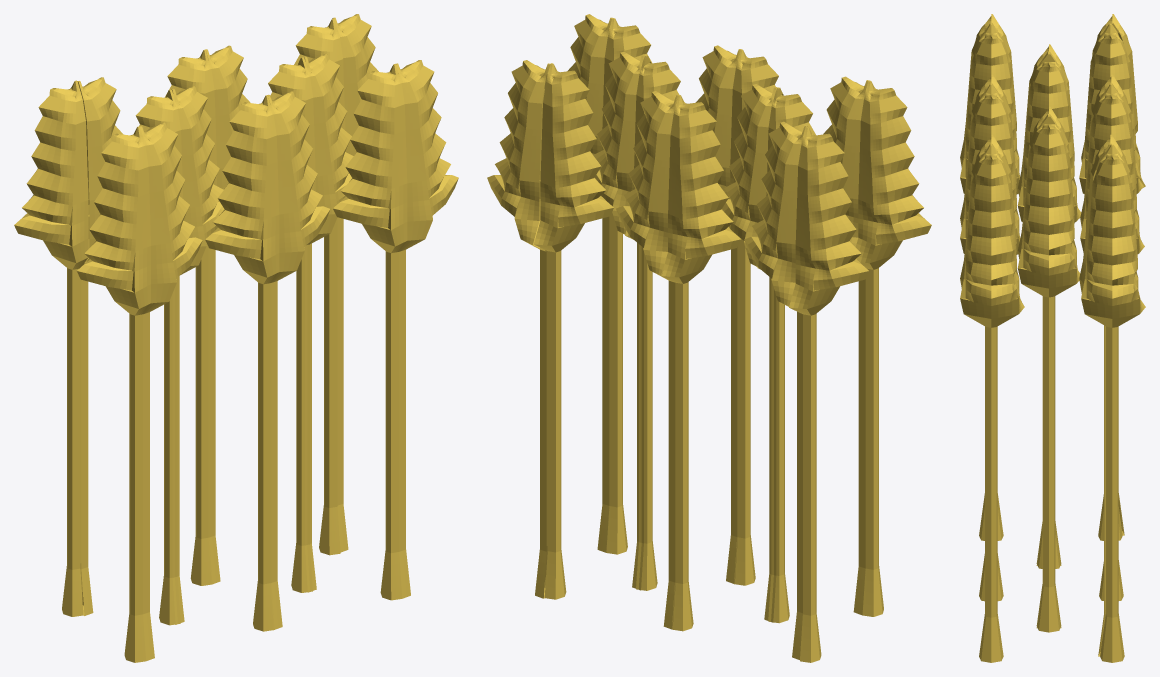
File: wheat.fbx
3 views of the same model, side by side, from view 1: azimuth 30°, elevation 25°; view 2: azimuth 150°, elevation 25°; view 3: azimuth 270°, elevation 25° (orthographic). The views are drawn at different scales.
Visible parts, largest first — view 1: Cube; view 2: Cube; view 3: Cube.
Boxes of the visible parts, left/top/right/bottom form: Cube: left=14, top=14, right=458, bottom=662; Cube: left=487, top=14, right=931, bottom=662; Cube: left=960, top=14, right=1145, bottom=662.
Size of the model in its own units: 143 by 189 by 62.21.
